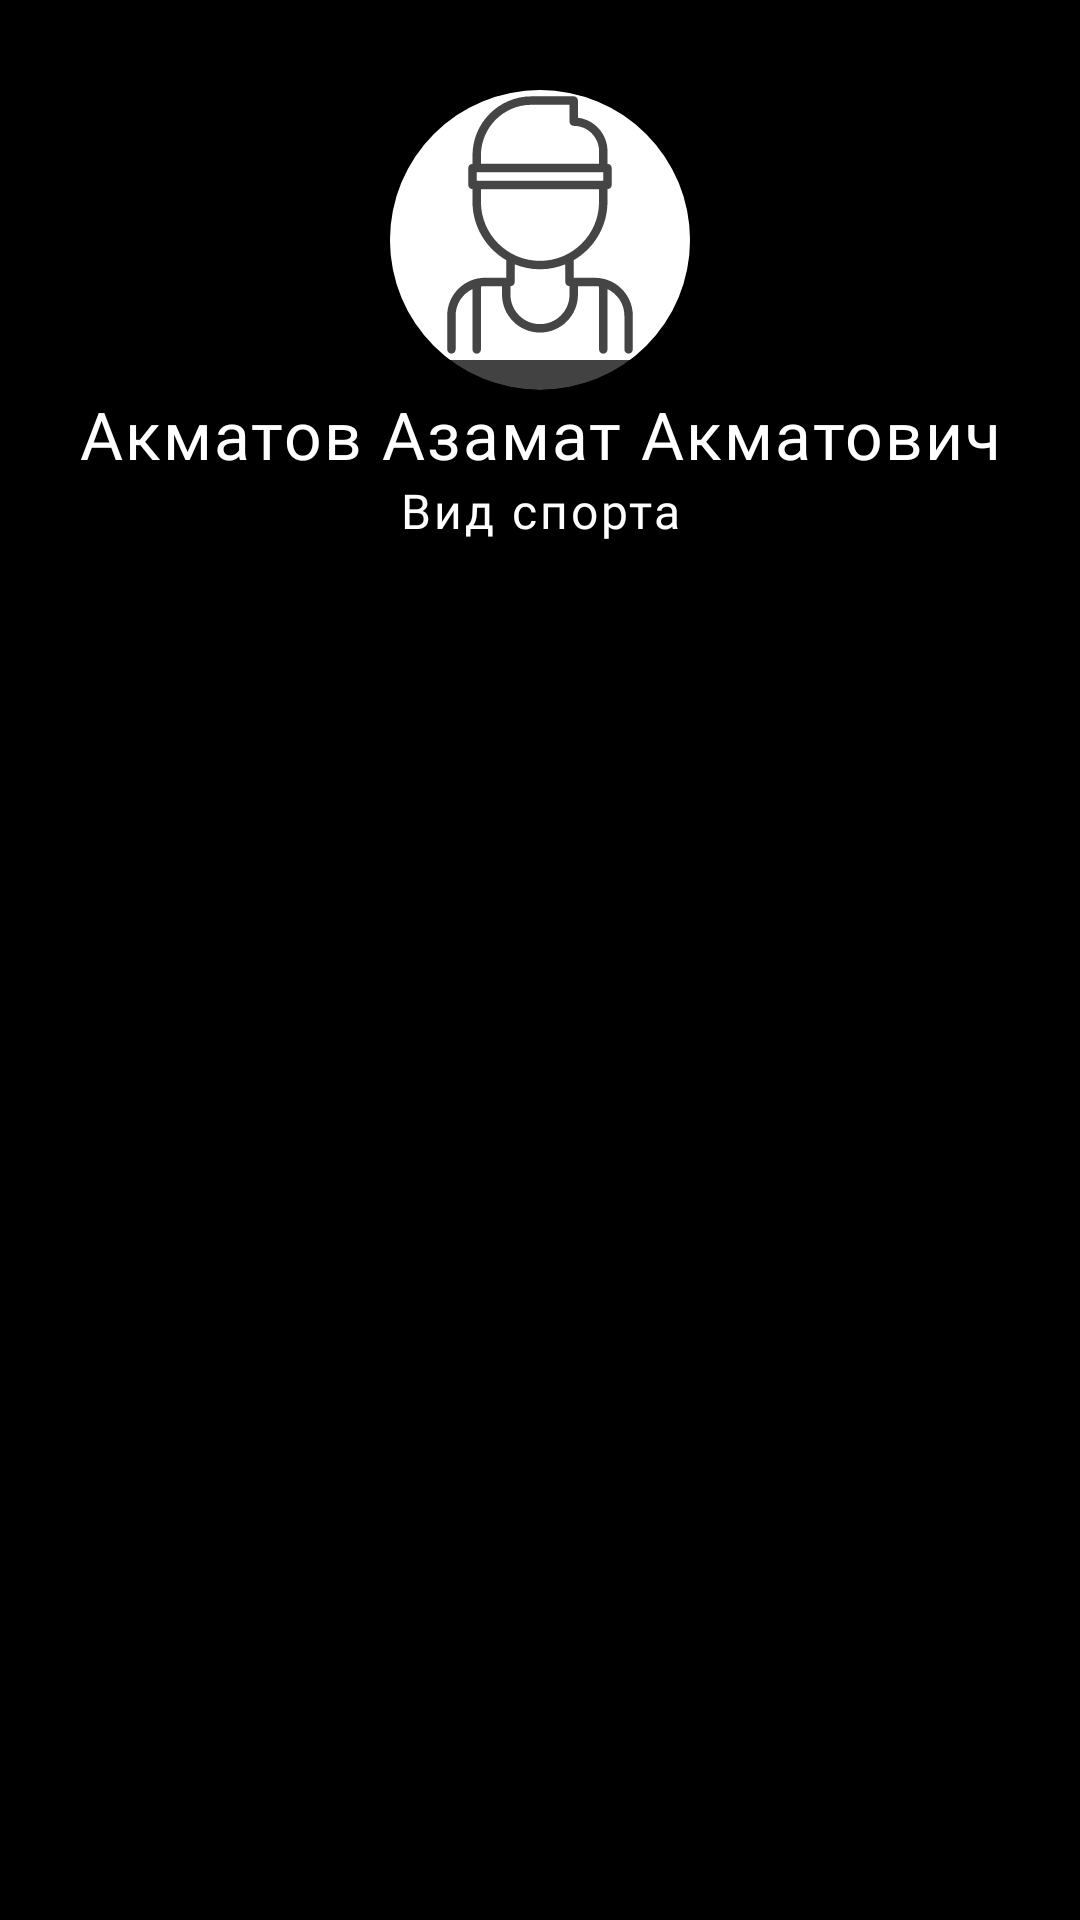

Named icons in this screenshot (1080 × 1920) and their centers, point (x, y):
user: point (540, 225)
